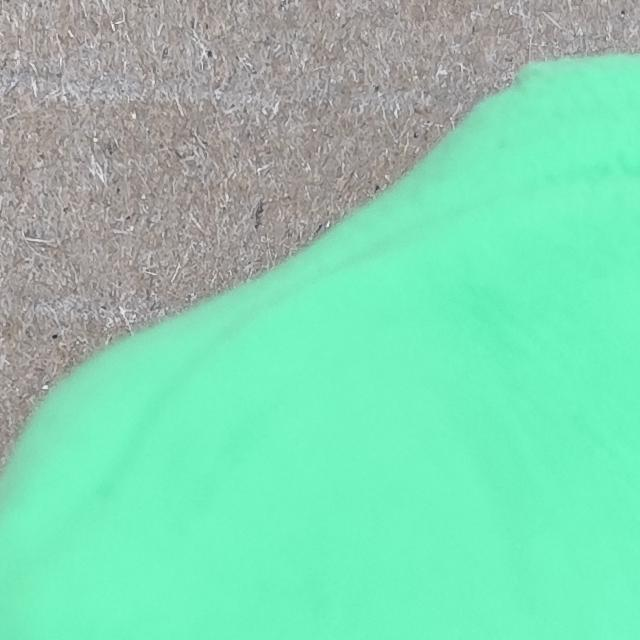good: (0, 57, 640, 640)
